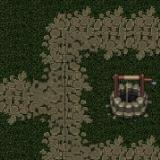Hide: (87, 58, 160, 138)
